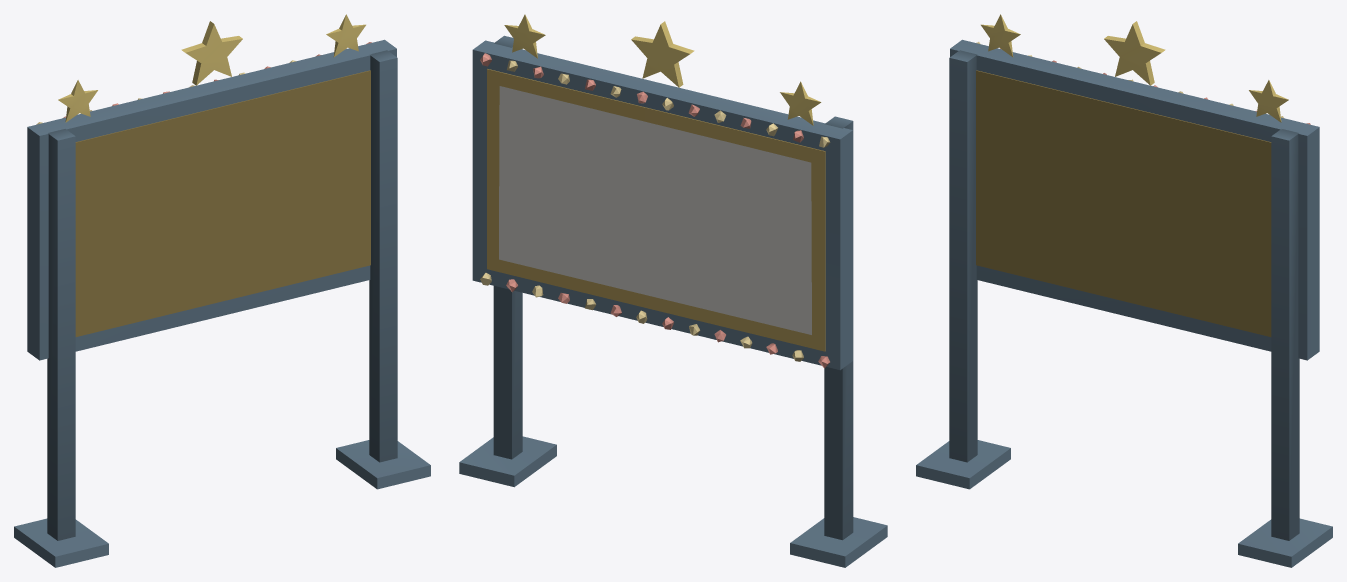
The model's file is newyear_countdown_board_low.glb.
3 views of the same model, side by side, from view 1: azimuth 30°, elevation 25°; view 2: azimuth 150°, elevation 25°; view 3: azimuth 330°, elevation 25° (orthographic). The views are drawn at different scales.
Bounding box in the file's own units: 2.1 × 2.55 × 0.4.
